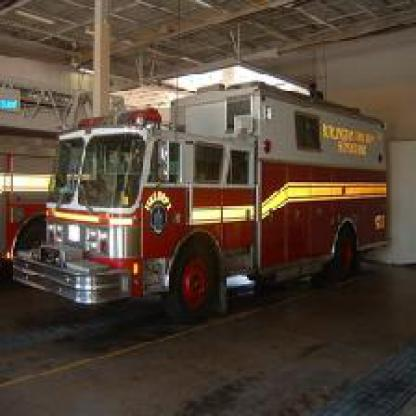emergency: (20, 104, 406, 325)
